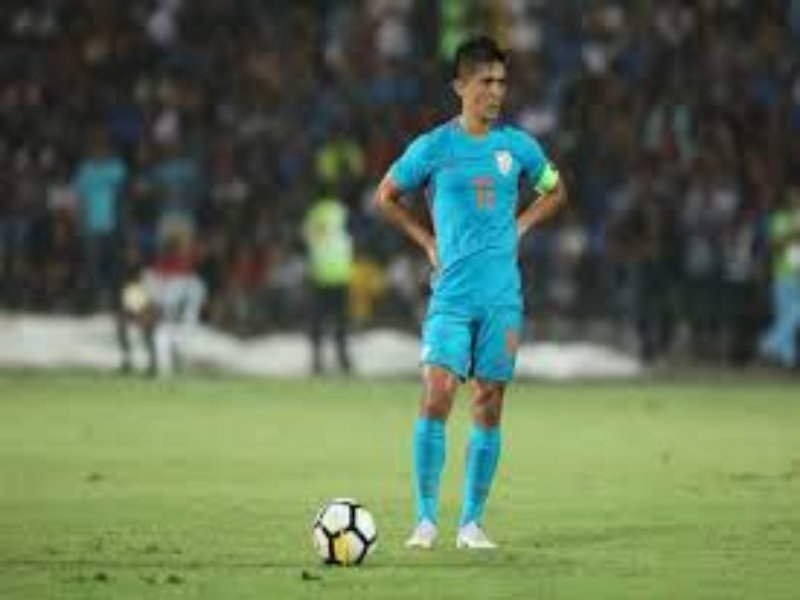person: (33, 57, 312, 583)
